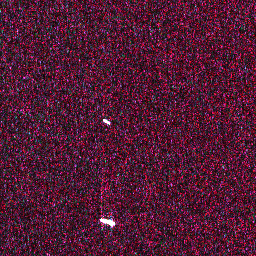ship: (97, 215, 118, 229), (101, 116, 113, 127)
